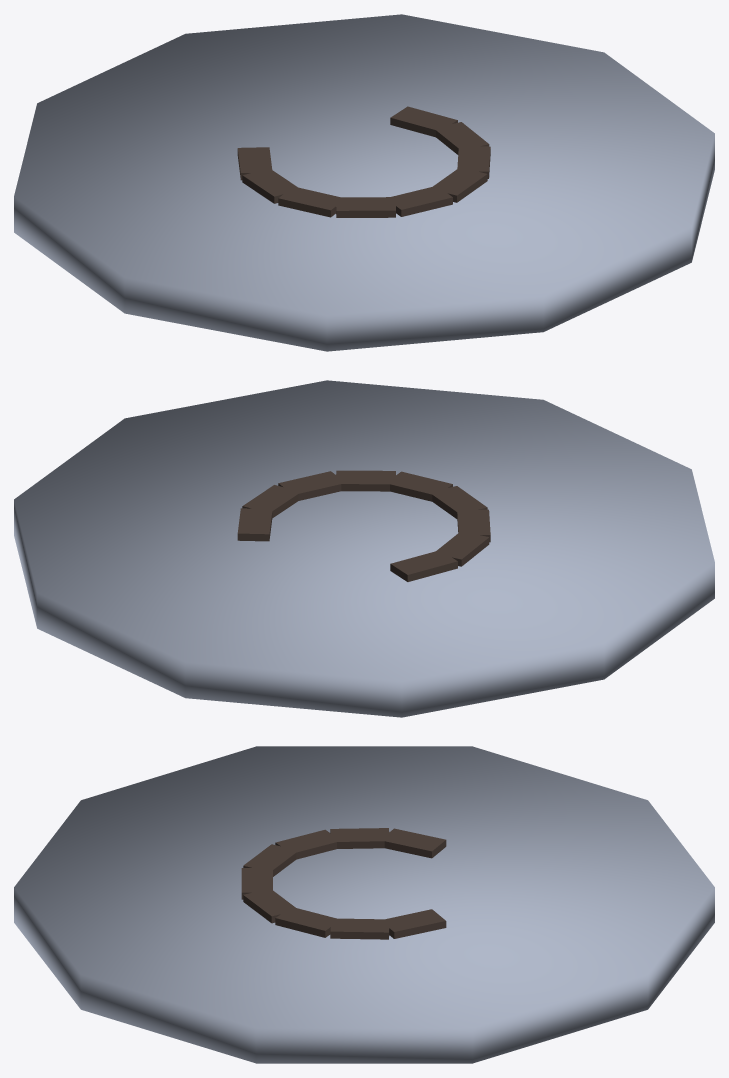
Rendered from horseshoe.glb.
3 views of the same model, one above another, from view 1: azimuth 30°, elevation 25°; view 2: azimuth 150°, elevation 25°; view 3: azimuth 270°, elevation 25° (orthographic). The views are drawn at different scales.
Visible parts, largest first — view 1: horseshoe; view 2: horseshoe; view 3: horseshoe.
Boxes of the visible parts, x1,y1,x2,y2 form: horseshoe: (14,14,714,351); horseshoe: (14,380,714,717); horseshoe: (14,746,714,1063).
Bounding box in the file's own units: 0.3424 × 0.024 × 0.36.
